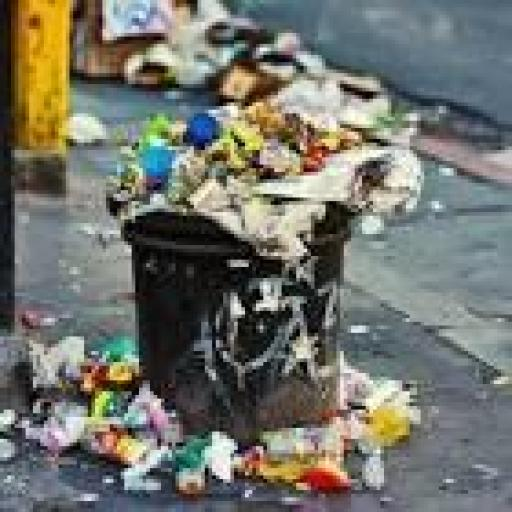poubelle_pleine: (83, 88, 406, 490)
